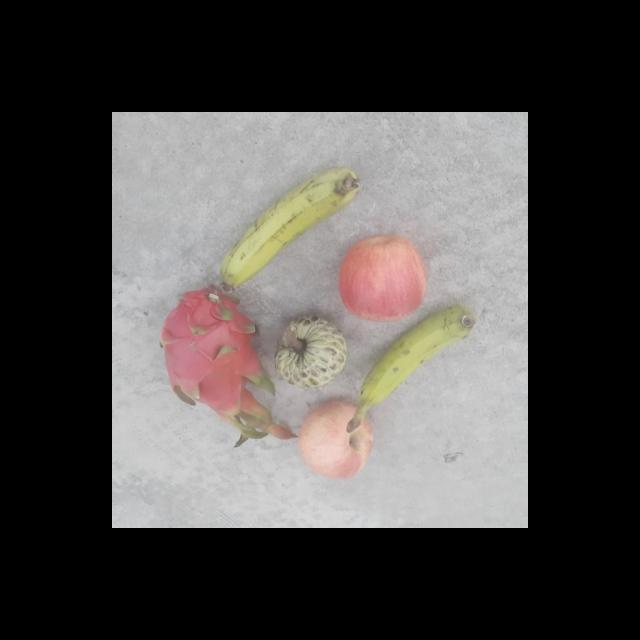Sakya fruit: (272, 313, 348, 392)
apple: (334, 232, 430, 322), (297, 398, 375, 482)
banana: (218, 167, 362, 294), (344, 306, 478, 432)
pitaya: (156, 284, 264, 424)
